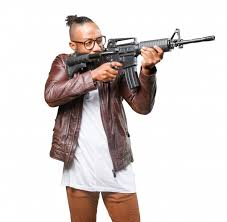rifle: (67, 27, 215, 91)
